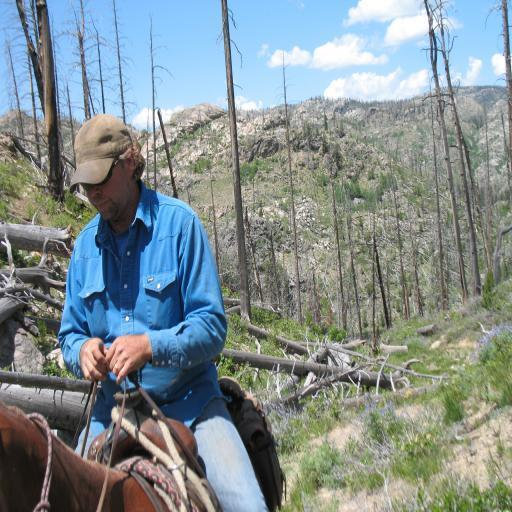horse: (0, 397, 178, 512)
